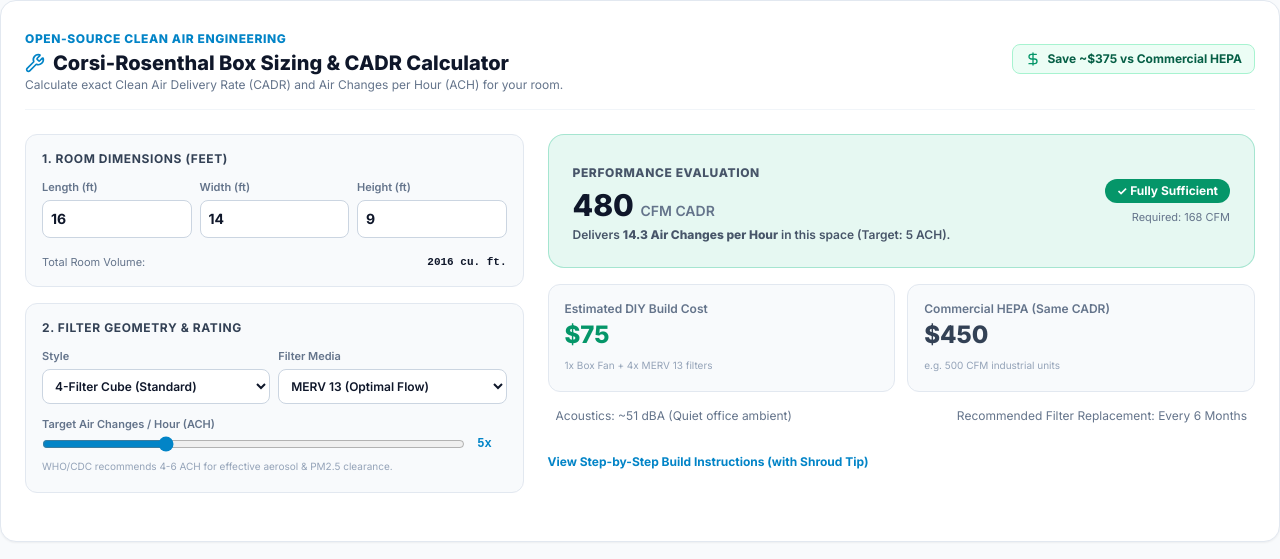
Test: CorsiRosenthalCalculator Component › updates room volume and required CADR when room dimensions change
This screenshot has width=1280, height=559.
Replace the text in the number field labelled "Length (ft)" with "20". click: (117, 218)
box: [42,200,192,238]
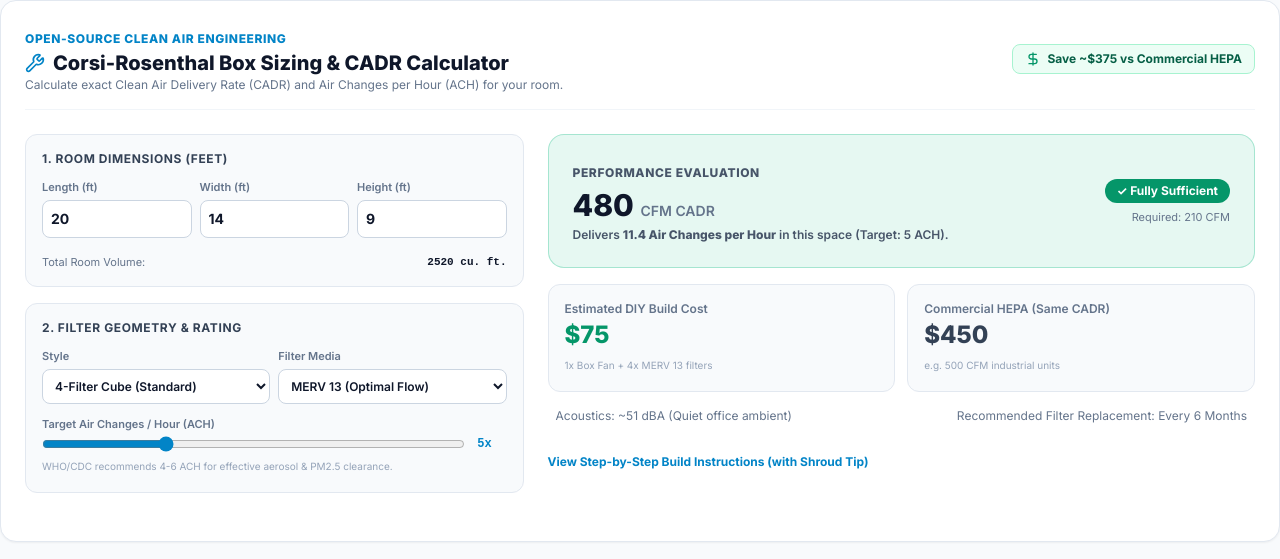
Replace the text in the number field labelled "Width (ft)" with "20". click: (274, 218)
box: [200,200,349,238]
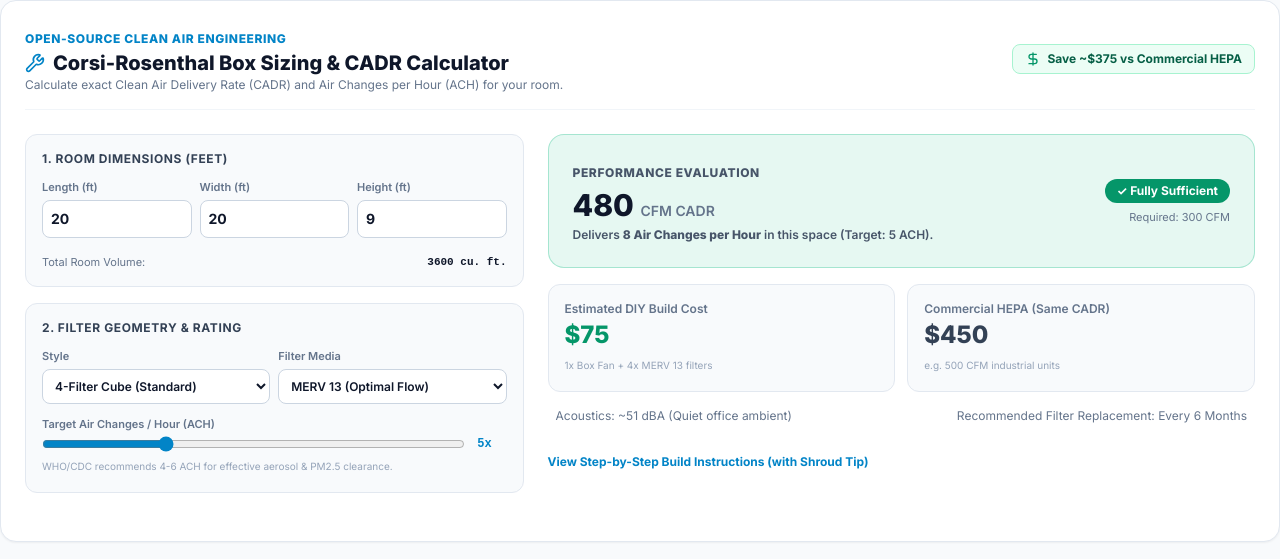
Replace the text in the number field labelled "Height (ft)" with "10". click: (432, 218)
box: [357,200,506,238]
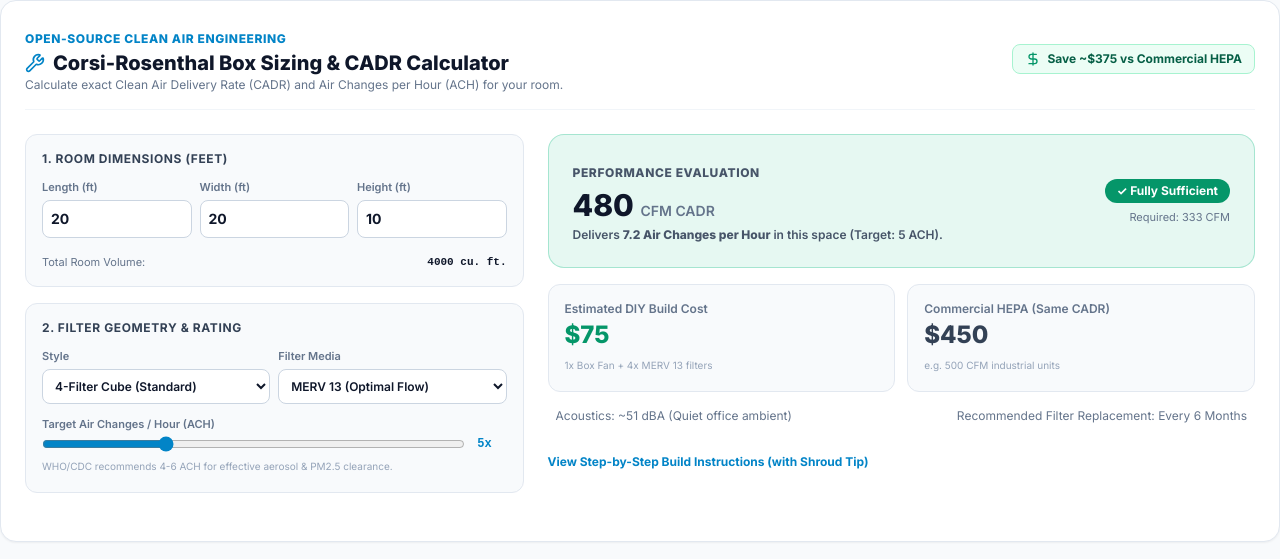
Result: the text "4000 cu. ft." is shown at [427,254,506,270]
Result: the text "Required: 333 CFM" is shown at [1129,210,1230,224]
